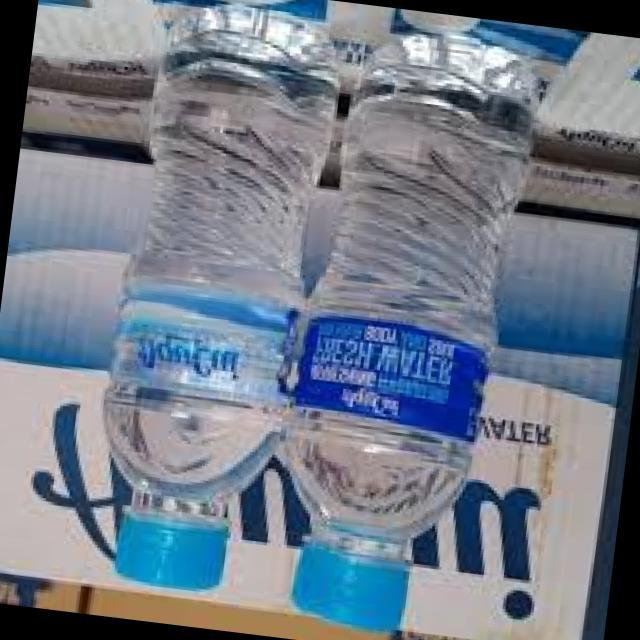good: (233, 18, 552, 640), (62, 1, 351, 619)
